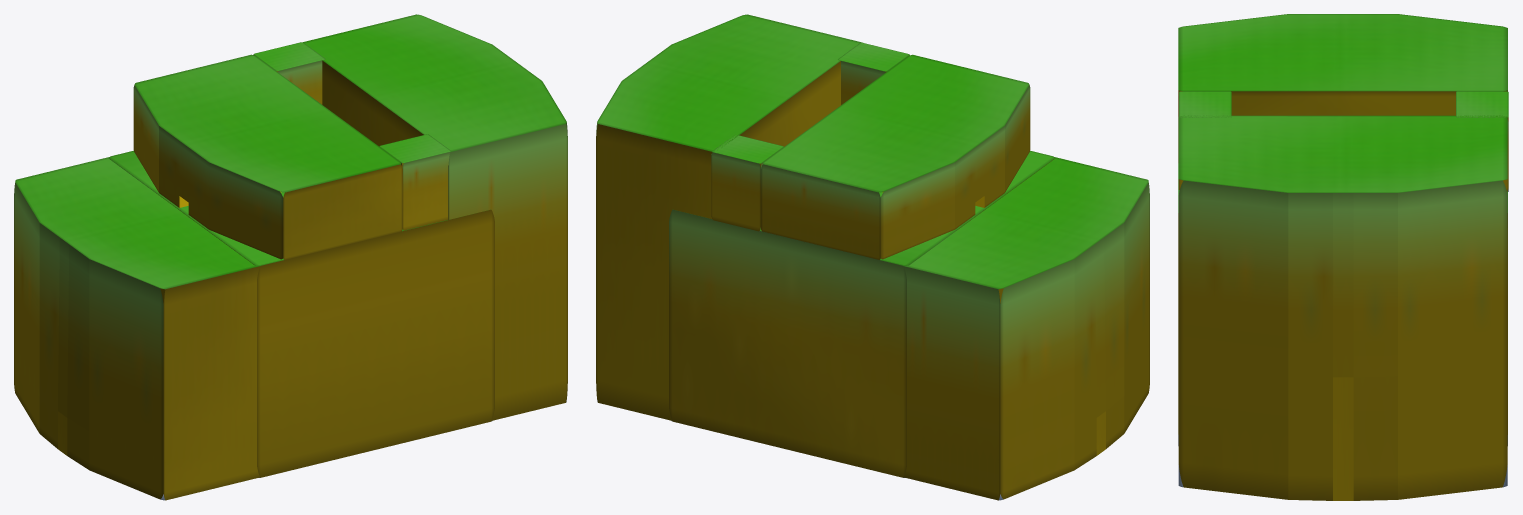
File: totidaze.fbx
The picture shows the model from 3 angles, left to right: view 1: azimuth 30°, elevation 25°; view 2: azimuth 150°, elevation 25°; view 3: azimuth 270°, elevation 25°; orthographic projection. The views are drawn at different scales.
Parts seen in each view (by area): view 1: cuboid_3, cuboid, cuboid_5, cuboid_1, cuboid_2, cuboid_4; view 2: cuboid_3, cuboid, cuboid_5, cuboid_1, cuboid_4, cuboid_2; view 3: cuboid_5, cuboid_1, cuboid_4, cuboid_2, cuboid.
Boxes of the visible parts, bbox=[...] form: cuboid_3: bbox=[14, 157, 260, 500]; cuboid: bbox=[108, 150, 494, 477]; cuboid_5: bbox=[303, 14, 567, 420]; cuboid_1: bbox=[133, 54, 402, 259]; cuboid_2: bbox=[379, 134, 451, 230]; cuboid_4: bbox=[253, 42, 325, 104]; cuboid_3: bbox=[903, 157, 1149, 500]; cuboid: bbox=[669, 150, 1055, 477]; cuboid_5: bbox=[596, 14, 861, 420]; cuboid_1: bbox=[761, 54, 1030, 259]; cuboid_4: bbox=[711, 134, 783, 231]; cuboid_2: bbox=[838, 42, 909, 104]; cuboid_5: bbox=[1178, 115, 1507, 500]; cuboid_1: bbox=[1178, 14, 1507, 162]; cuboid_4: bbox=[1456, 91, 1508, 191]; cuboid_2: bbox=[1179, 91, 1231, 189]; cuboid: bbox=[1178, 163, 1507, 445].
Size of the model in its own units: 2819 by 1647 by 1603.
